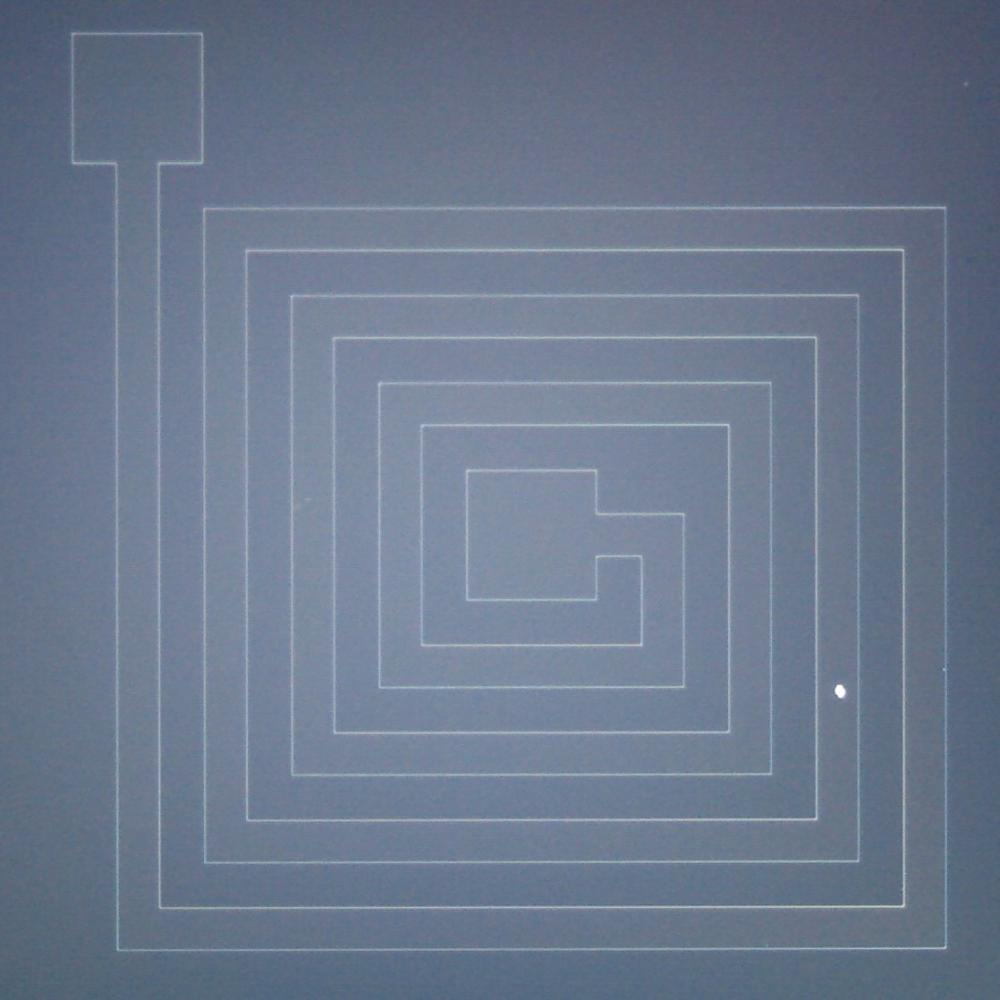dot: (833, 684, 847, 699)
